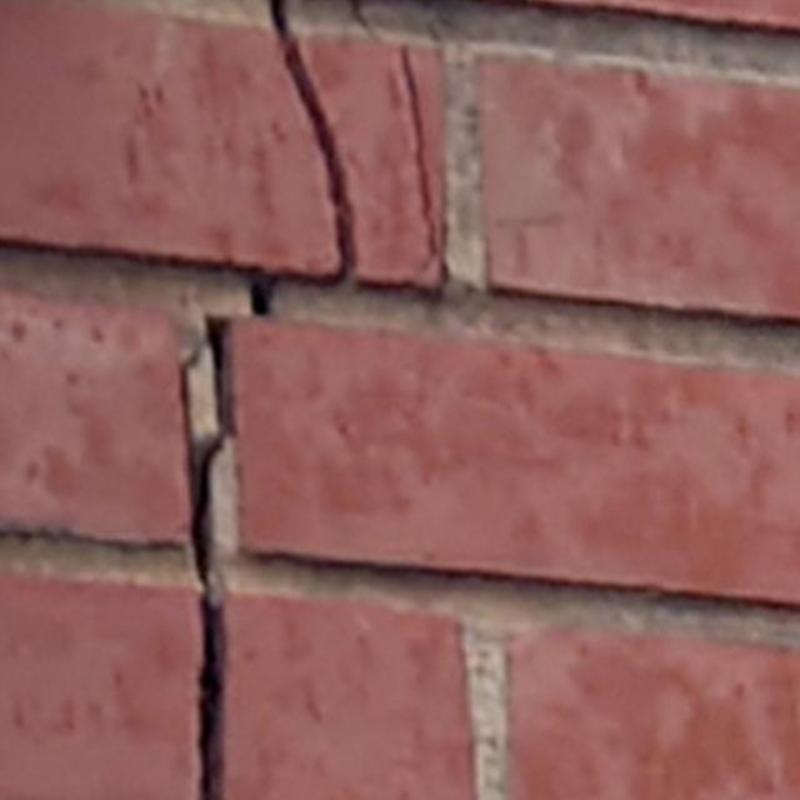pothole: (250, 1, 355, 317), (355, 0, 441, 282), (180, 317, 227, 799)
